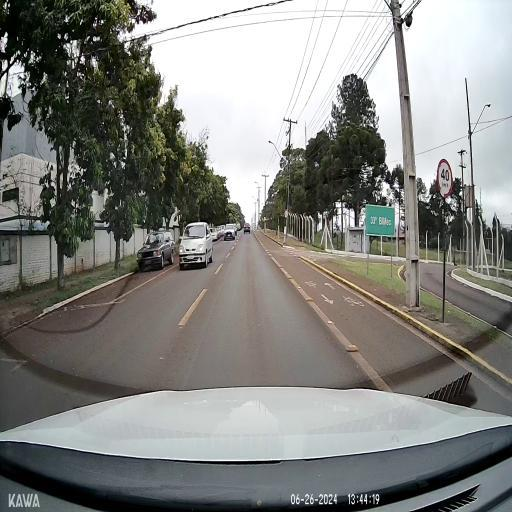R-19: (437, 158, 453, 196)
